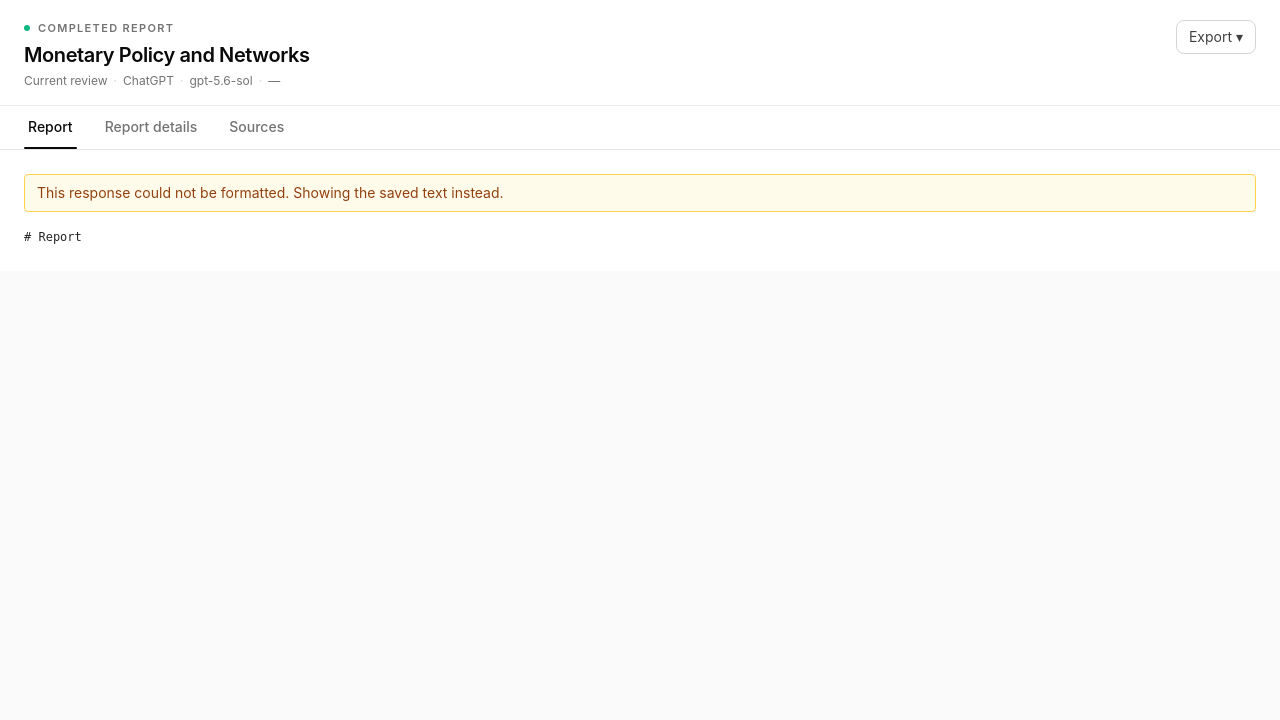
it: ReportWorkspace › labels the run's recorded time as its start
The width and height of the screenshot is (1280, 720).
Click the tab "Report details" at [151, 127], box [101,105,201,149]
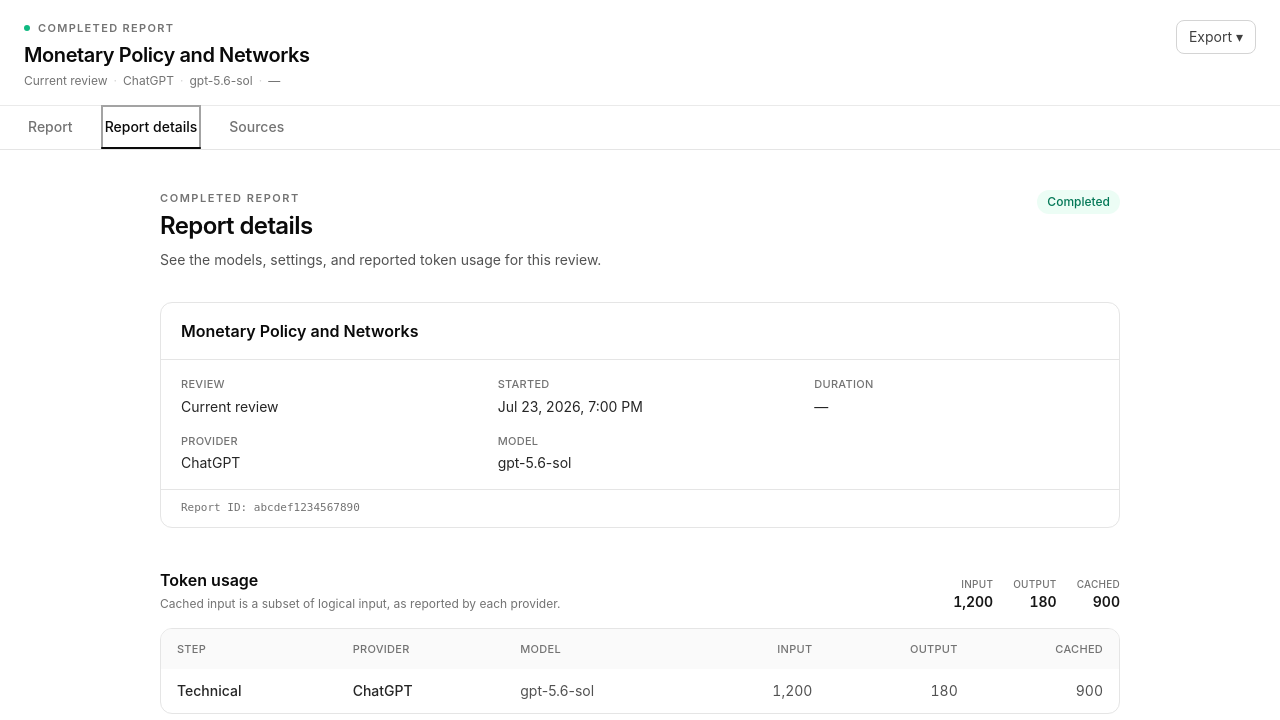
Now the text "Started" is shown, box [498,377,550,391]
